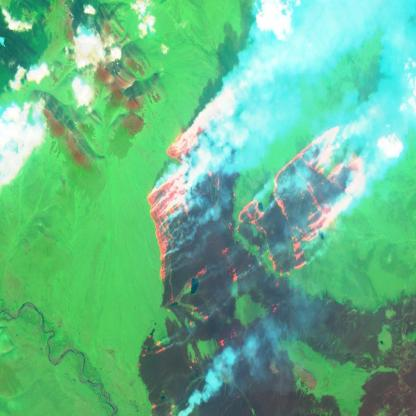fire: (137, 104, 373, 291)
